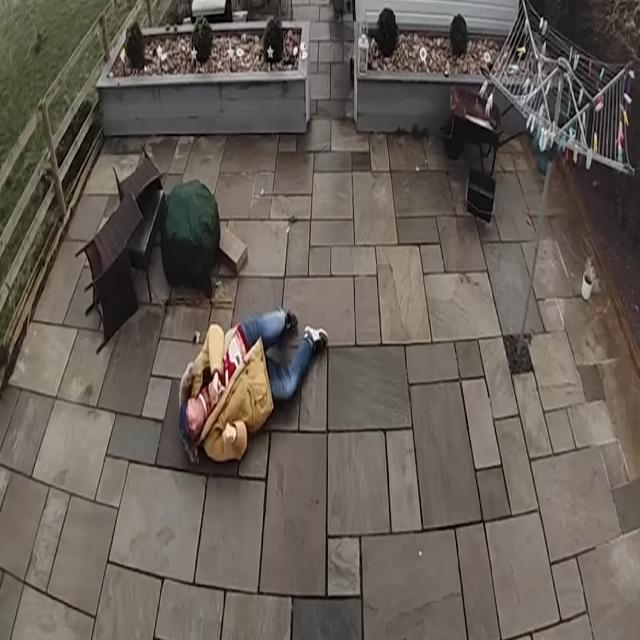fallen: (179, 308, 327, 460)
